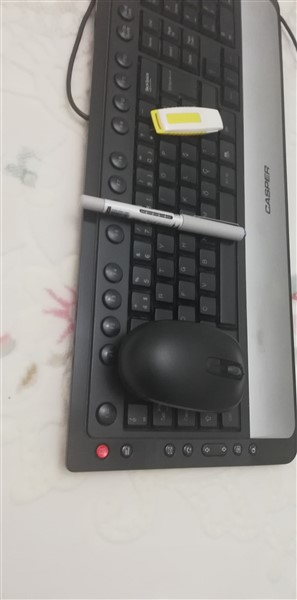flash disk: (144, 98, 230, 149)
klavye: (72, 1, 297, 477)
mouse: (115, 306, 248, 412)
pilot kalem: (81, 189, 249, 249)
